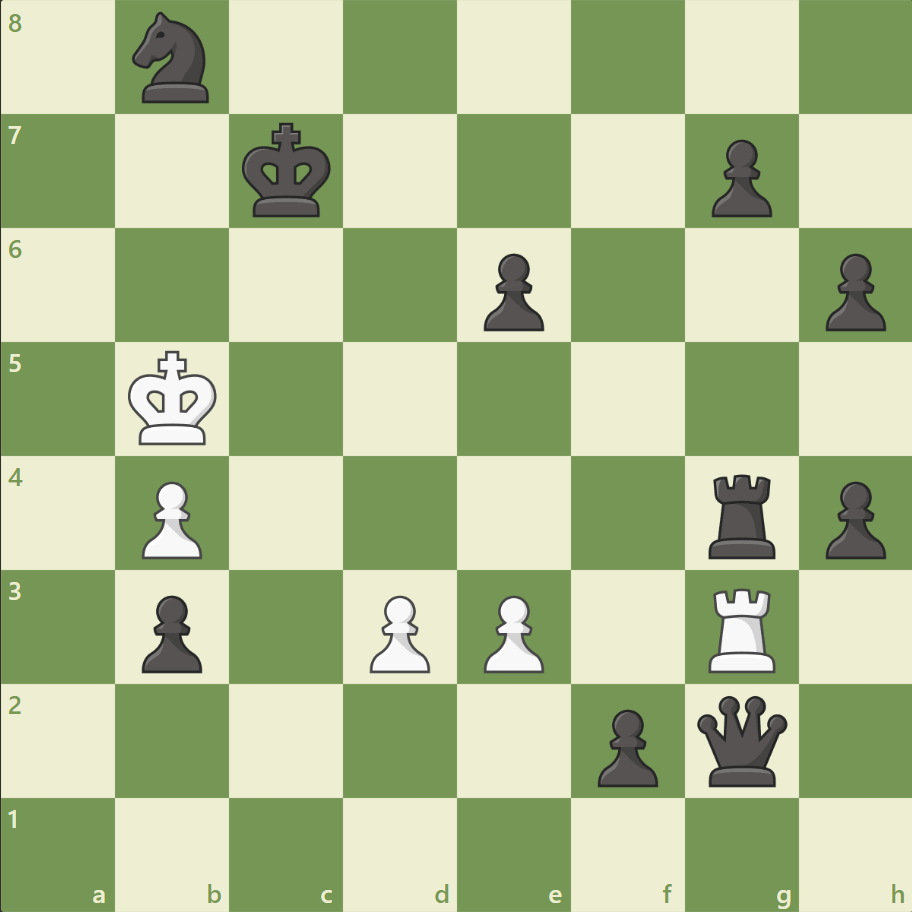K: (124, 344, 224, 452)
P: (133, 473, 208, 564), (474, 586, 549, 677), (361, 586, 435, 677)
R: (700, 579, 783, 676)
k: (238, 117, 338, 225)
n: (124, 7, 222, 110)
p: (701, 132, 776, 223), (474, 246, 549, 337), (133, 586, 208, 677), (815, 246, 889, 337), (815, 473, 889, 564), (588, 700, 662, 791)
q: (691, 690, 790, 789)
r: (700, 466, 783, 563)
